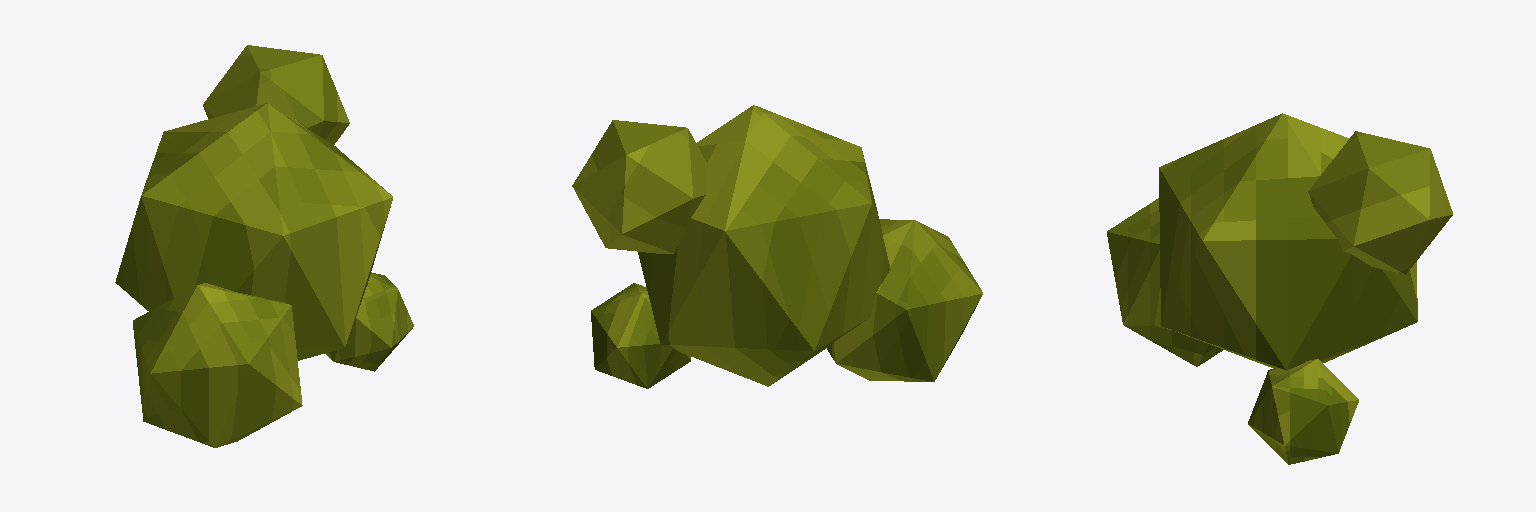
The picture shows the model from 3 angles: view 1: azimuth 30°, elevation 25°; view 2: azimuth 150°, elevation 25°; view 3: azimuth 270°, elevation 25°; orthographic projection.
Parts seen in each view (by area): view 1: hojas arbol:arbol; view 2: hojas arbol:arbol; view 3: hojas arbol:arbol.
Part boxes in pixels (x1,y1,x2,y2): hojas arbol:arbol: (115,45,413,447); hojas arbol:arbol: (572,105,982,388); hojas arbol:arbol: (1107,113,1452,464).
Size of the model in its own units: 24.39 by 21.62 by 22.82.
Materials: 2 (1 with a texture image).